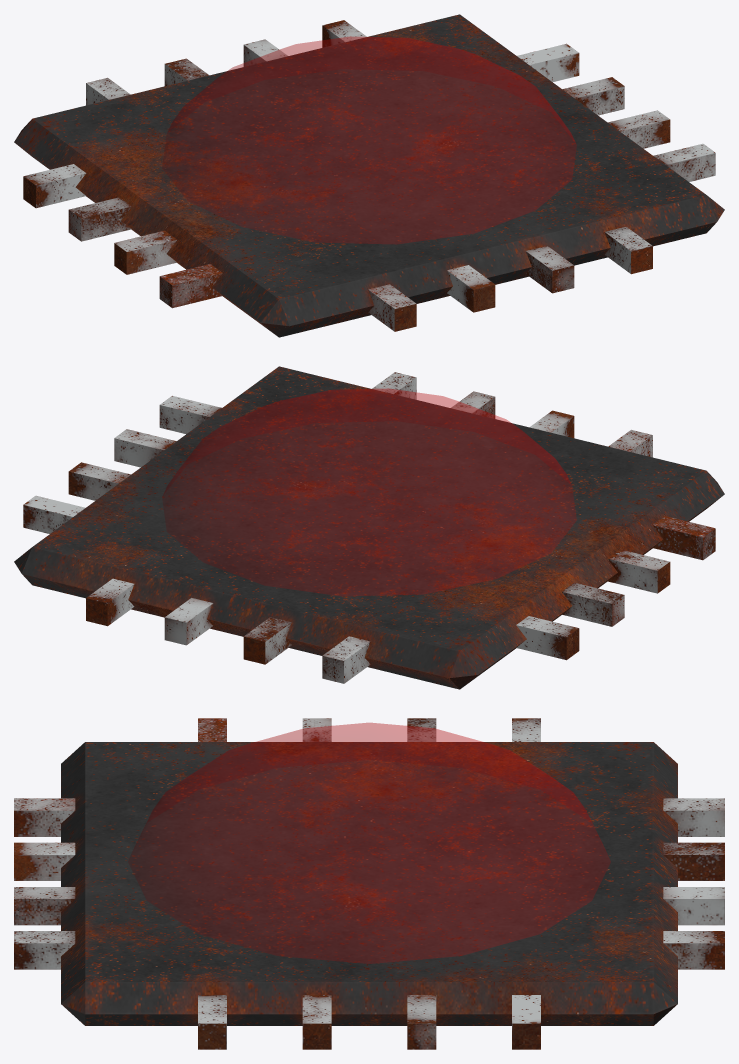
Rendered from CPU.fbx.
3 views of the same model, one above another, from view 1: azimuth 30°, elevation 25°; view 2: azimuth 150°, elevation 25°; view 3: azimuth 270°, elevation 25° (orthographic). The views are drawn at different scales.
Visible parts, largest first — view 1: pCube9; view 2: pCube9; view 3: pCube9.
Boxes of the visible parts, x1,y1,x2,y2 form: pCube9: (14, 14, 724, 337); pCube9: (14, 366, 724, 689); pCube9: (14, 718, 724, 1049).
Bounding box in the file's own units: 2.76 × 0.6016 × 2.72.
Materials: 2 (1 with a texture image).
